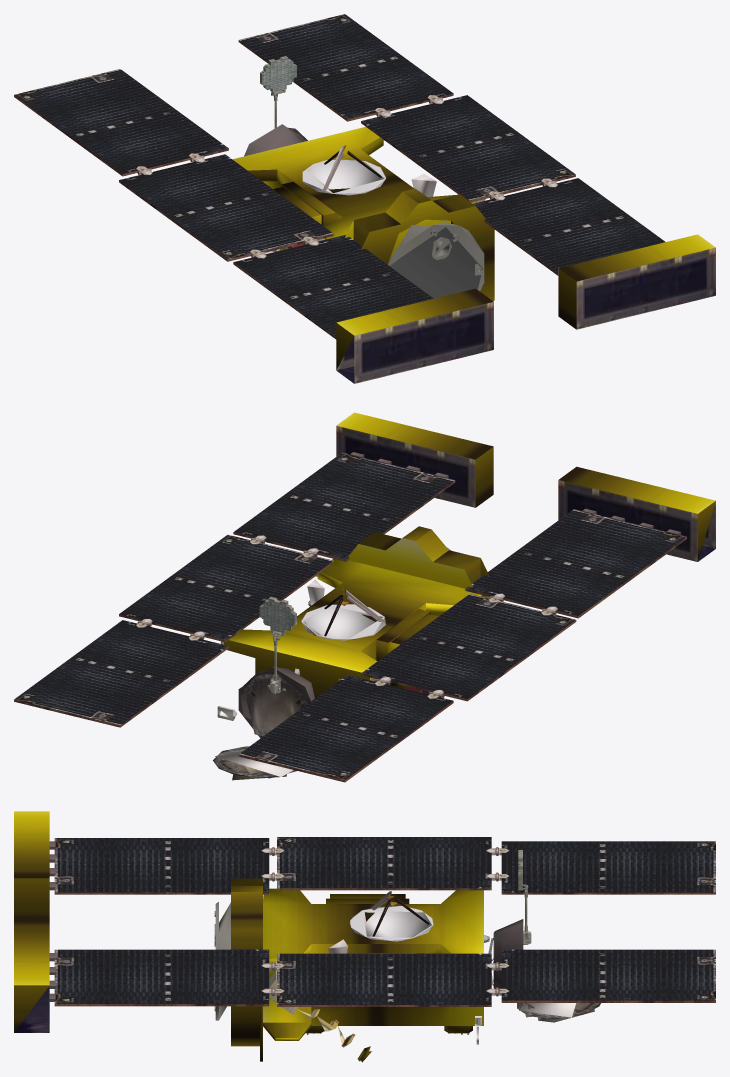
The model's file is stardust.glb.
3 renders of one model, top to bottom at view 1: azimuth 30°, elevation 25°; view 2: azimuth 150°, elevation 25°; view 3: azimuth 270°, elevation 25°, orthographic.
Visible parts, largest first — view 1: shiny_panels, gold_foil, foil_silver, Stardust_tex_02, Stardust_tex_03; view 2: shiny_panels, gold_foil, Stardust_tex_03, Stardust_tex_02; view 3: shiny_panels, gold_foil, Stardust_tex_03, Stardust_tex_02.
Part boxes in pixels (x1,y1,x2,y2): shiny_panels: (14,14,715,383); gold_foil: (232,126,715,369); foil_silver: (390,227,480,298); Stardust_tex_02: (260,56,484,291); Stardust_tex_03: (288,127,386,195); shiny_panels: (14,426,715,782); gold_foil: (224,412,715,698); Stardust_tex_03: (213,589,385,780); Stardust_tex_02: (259,547,450,698); shiny_panels: (14,837,715,1060); gold_foil: (14,811,483,1062); Stardust_tex_03: (349,891,600,1022); Stardust_tex_02: (55,850,715,1047).
Size of the model in its own units: 2.94 by 1.44 by 5.01.
5 materials, 5 textured.
